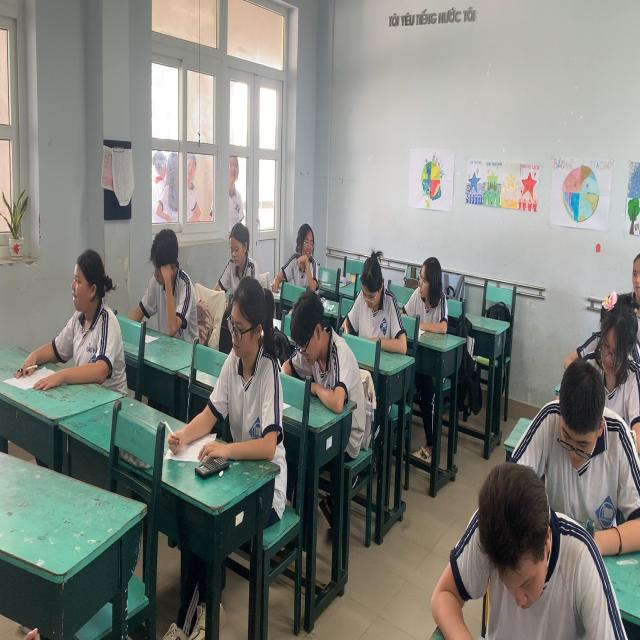cheating: (399, 248, 449, 334), (276, 214, 326, 294)
not_cheating: (426, 476, 605, 640), (210, 276, 280, 459), (55, 252, 117, 379), (288, 282, 346, 400), (134, 230, 195, 335), (556, 372, 603, 507), (348, 251, 403, 348), (599, 303, 638, 400), (218, 227, 263, 279)
